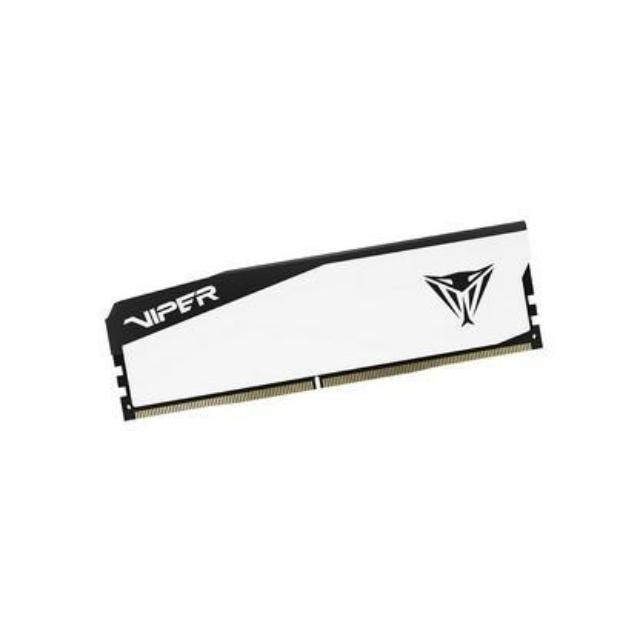RAM: (100, 214, 551, 440)
